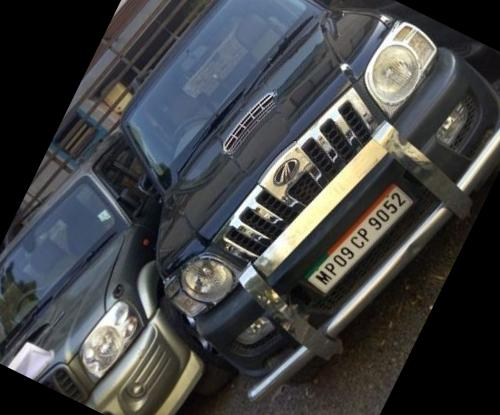plate: (285, 138, 451, 324)
